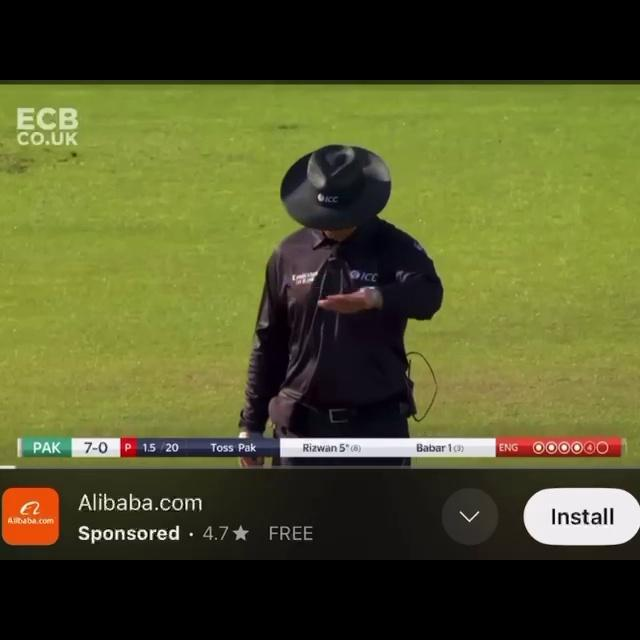umpire: (150, 132, 509, 432)
